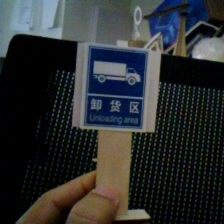unload: (77, 40, 153, 133)
